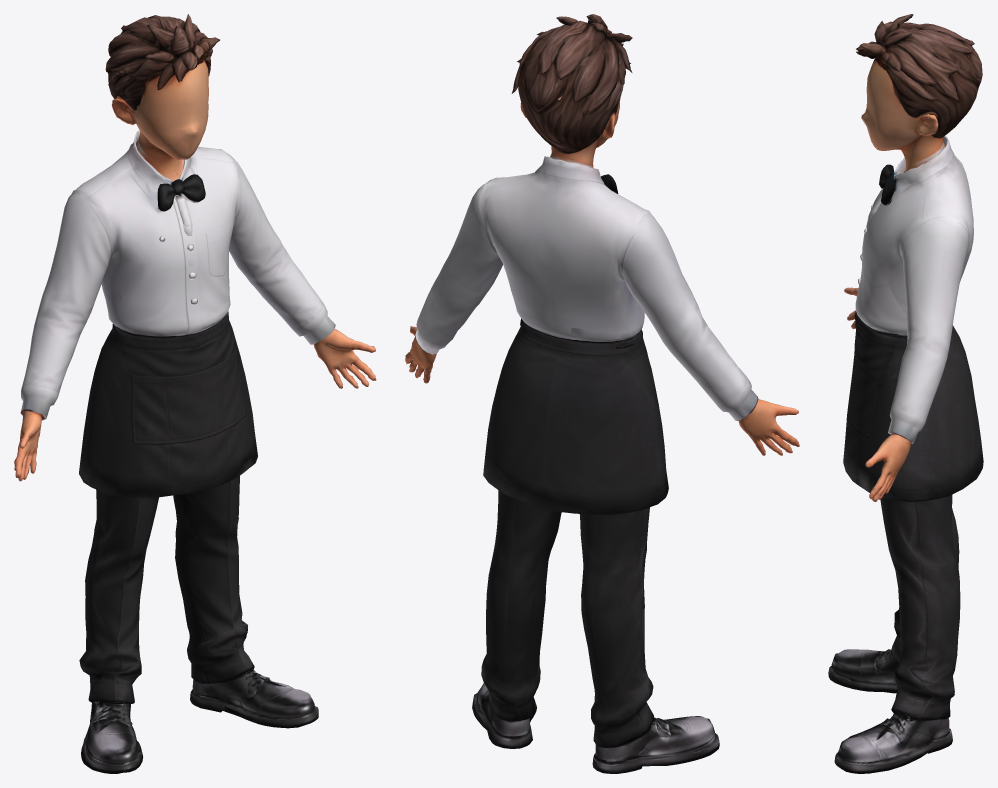
The picture shows the model from 3 angles, left to right: view 1: azimuth 30°, elevation 25°; view 2: azimuth 150°, elevation 25°; view 3: azimuth 270°, elevation 25°; orthographic projection. The views are drawn at different scales.
Visible parts, largest first — view 1: tripo_node_3e12e5ef-375b-4704-9475-b9bb10e710f7; view 2: tripo_node_3e12e5ef-375b-4704-9475-b9bb10e710f7; view 3: tripo_node_3e12e5ef-375b-4704-9475-b9bb10e710f7.
Boxes of the visible parts, x1,y1,x2,y2 form: tripo_node_3e12e5ef-375b-4704-9475-b9bb10e710f7: [14, 14, 376, 773]; tripo_node_3e12e5ef-375b-4704-9475-b9bb10e710f7: [405, 14, 799, 773]; tripo_node_3e12e5ef-375b-4704-9475-b9bb10e710f7: [828, 14, 983, 773].
Size of the model in its own units: 0.5522 by 1 by 0.2032.
1 material, 1 textured.
